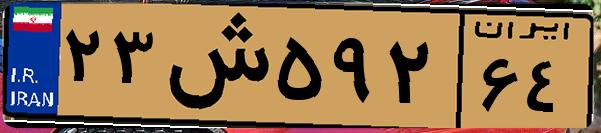2: (385, 28, 445, 110), (57, 26, 110, 100)
3: (110, 28, 158, 98)
4: (525, 38, 570, 115)
5: (270, 28, 330, 110)
6: (475, 38, 525, 113)
9: (330, 28, 385, 110)
ش: (158, 12, 270, 120)
